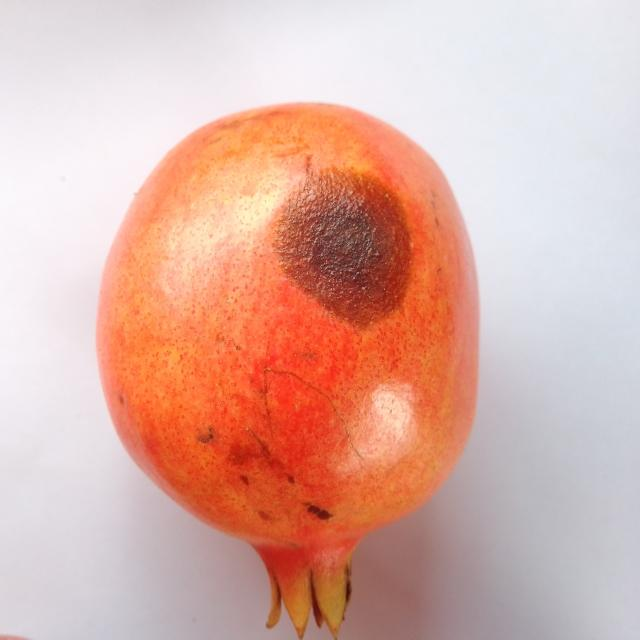Rotten: (92, 92, 484, 640)
